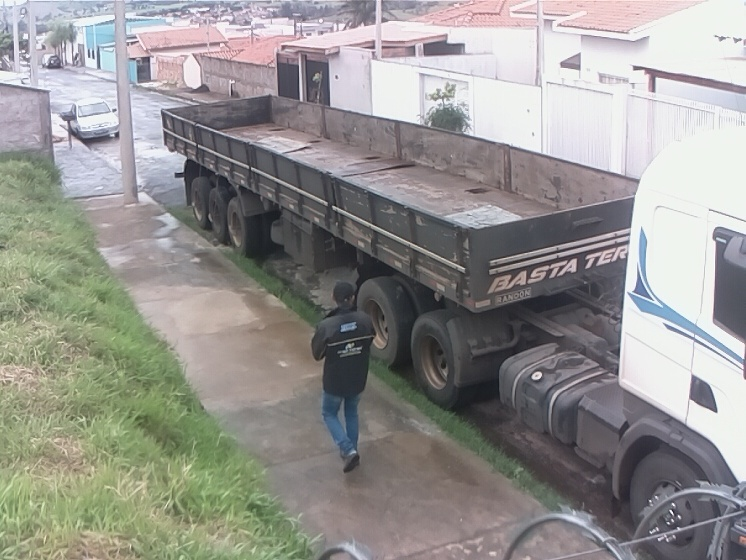person: (309, 280, 379, 478)
